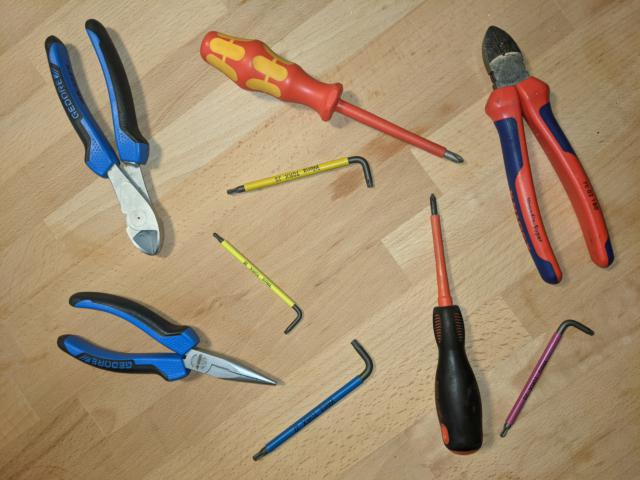Inbusschlüssel: (249, 336, 377, 464), (495, 316, 598, 442), (208, 230, 306, 336), (225, 154, 377, 196)
Schraubendreher: (198, 27, 468, 166), (426, 190, 488, 457)
Seitenschneider: (478, 21, 617, 287), (42, 15, 169, 259)
Zange: (56, 288, 284, 389)
